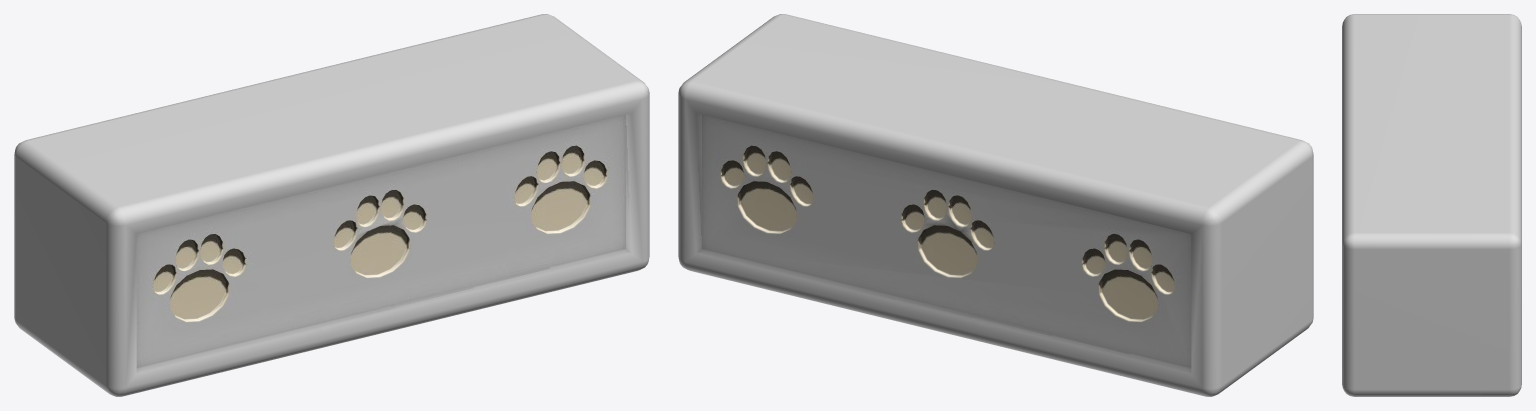
Rendered from kup3.glb.
3 renders of one model, left to right at view 1: azimuth 30°, elevation 25°; view 2: azimuth 150°, elevation 25°; view 3: azimuth 270°, elevation 25°, orthographic. The views are drawn at different scales.
Parts seen in each view (by area): view 1: blok; view 2: blok; view 3: blok.
Part boxes in pixels (x1,y1,x2,y2): blok: (14, 14, 649, 396); blok: (678, 14, 1313, 396); blok: (1342, 14, 1521, 396).
Bounding box in the file's own units: 3 × 1 × 1.
2 materials, 2 textured.
